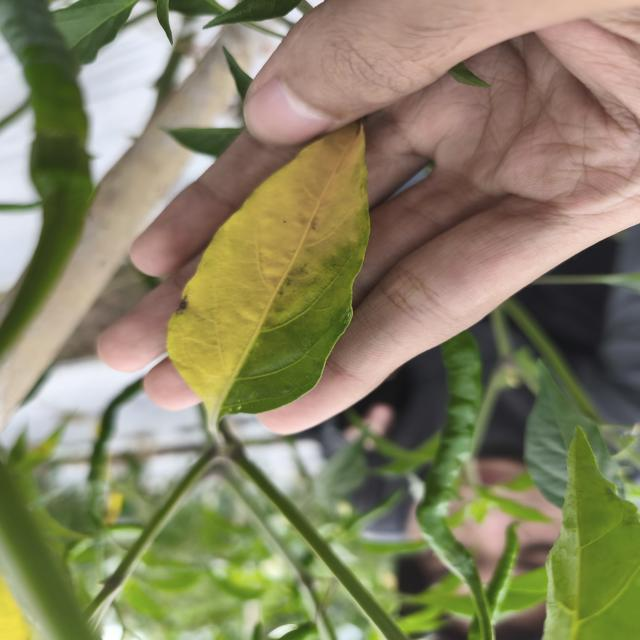Virus Kuning: (165, 118, 372, 417)
